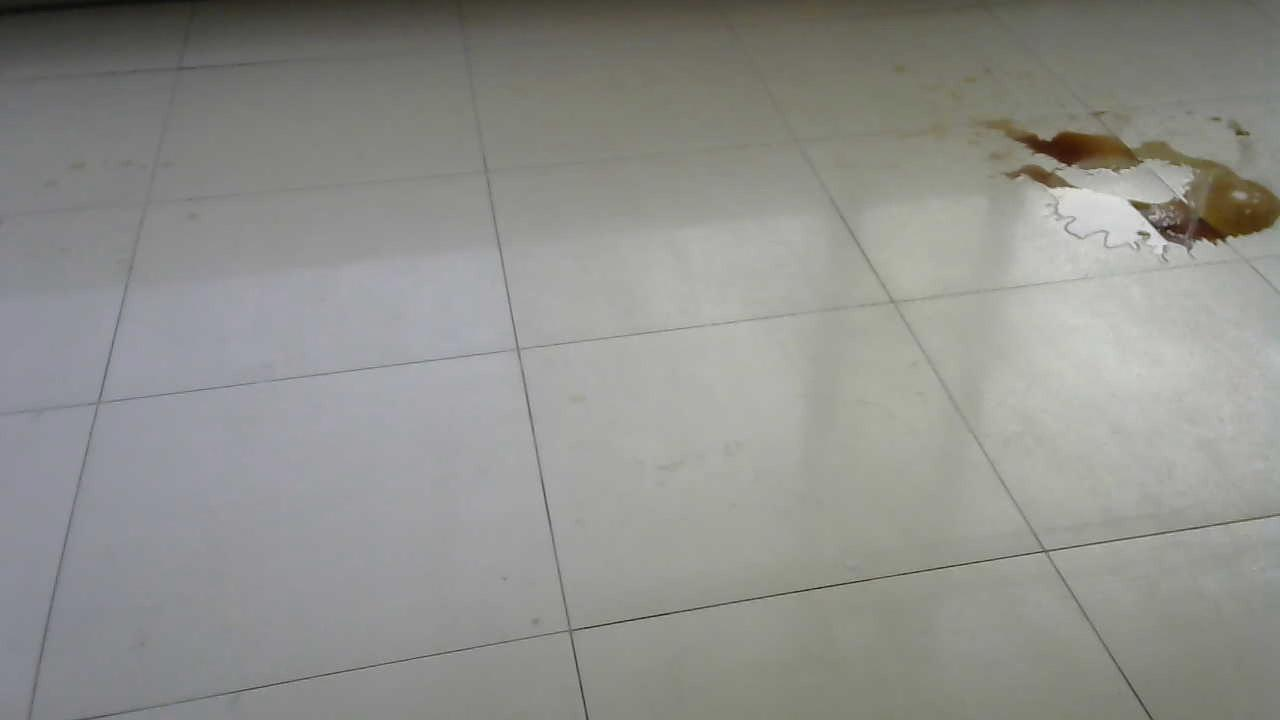dirty_floor: (933, 78, 1280, 268)
